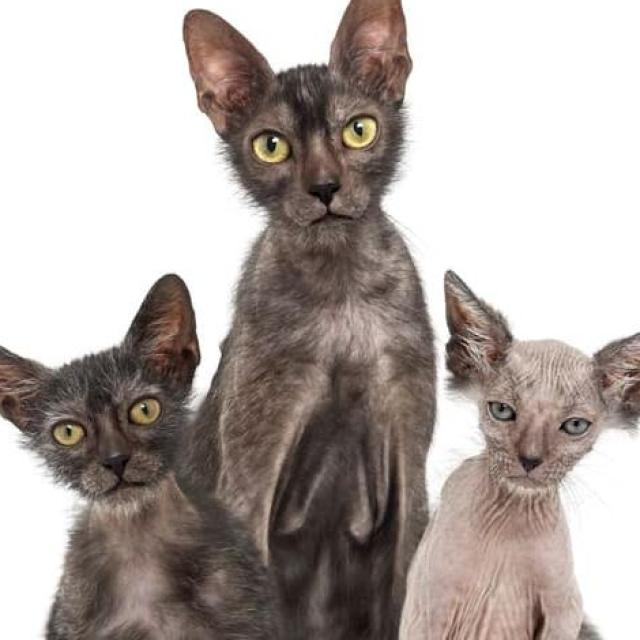Lykoi: (178, 0, 442, 640), (0, 264, 264, 640), (389, 260, 640, 640)
